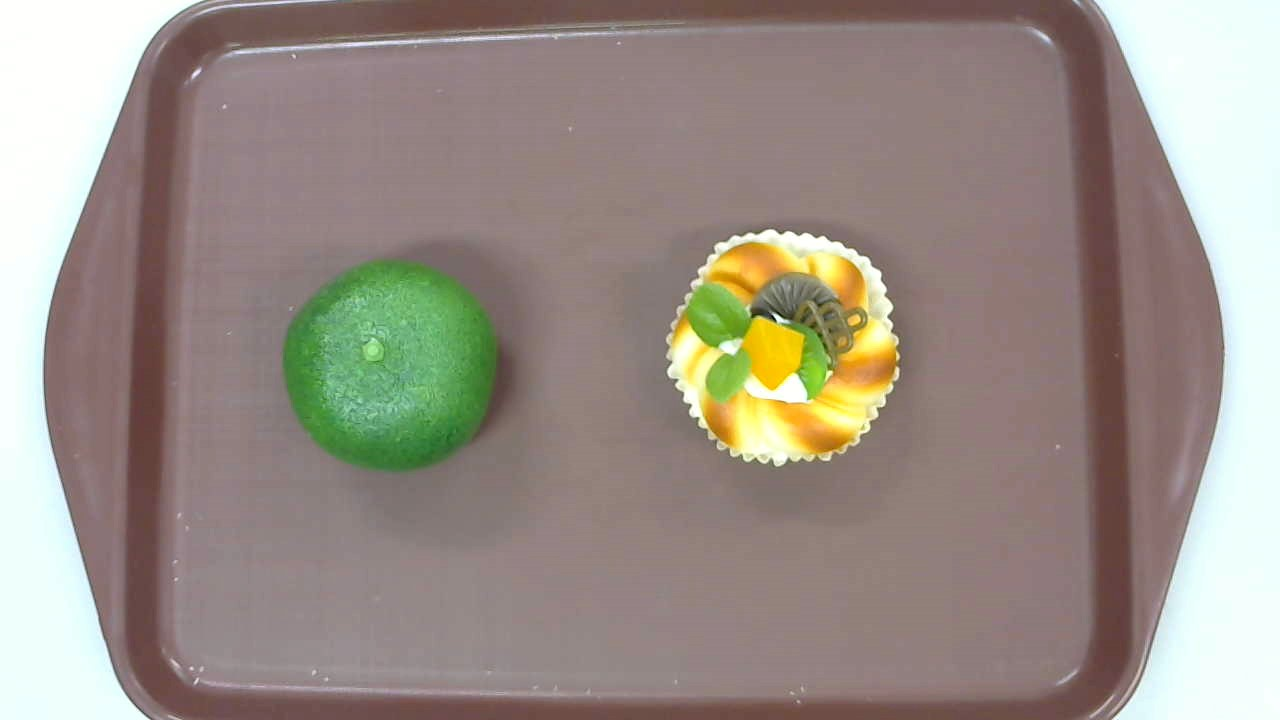fruit tart: (666, 228, 900, 469)
green orange: (282, 259, 498, 474)
